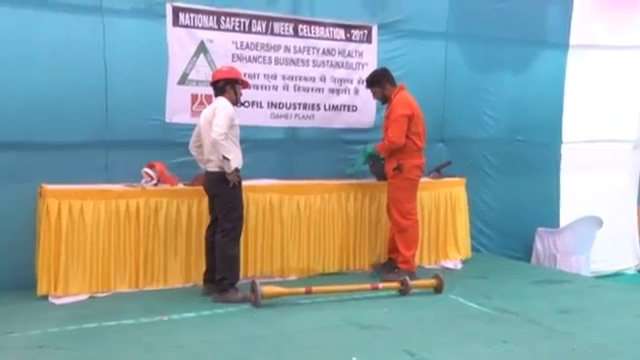helmet: (211, 65, 250, 92)
helmet_off: (364, 67, 399, 105)
helmet_on: (210, 65, 252, 109)
person: (187, 63, 254, 303), (366, 67, 424, 282)
